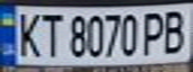0: (118, 10, 142, 57), (84, 11, 106, 58)
7: (103, 11, 124, 58)
8: (63, 11, 87, 58)
B: (157, 7, 193, 55)
K: (12, 9, 45, 58)
P: (139, 8, 172, 56)
T: (36, 10, 66, 58)
